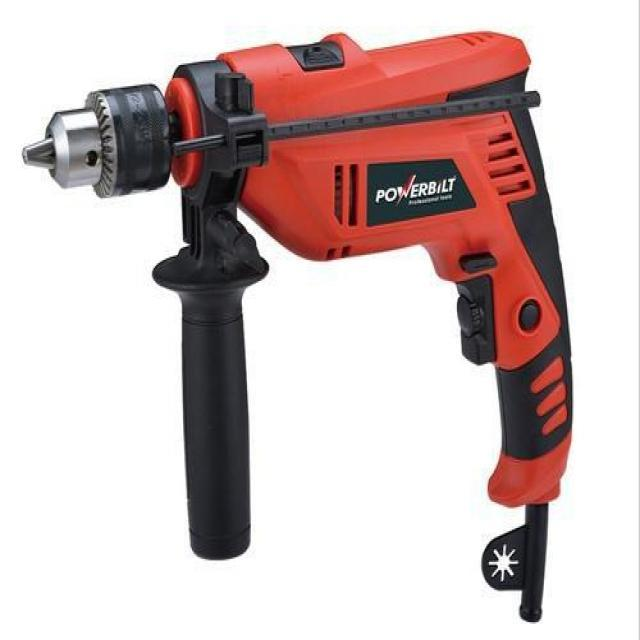drill: (21, 28, 574, 624)
